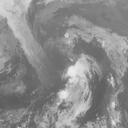cyclone: (41, 33, 96, 91)
